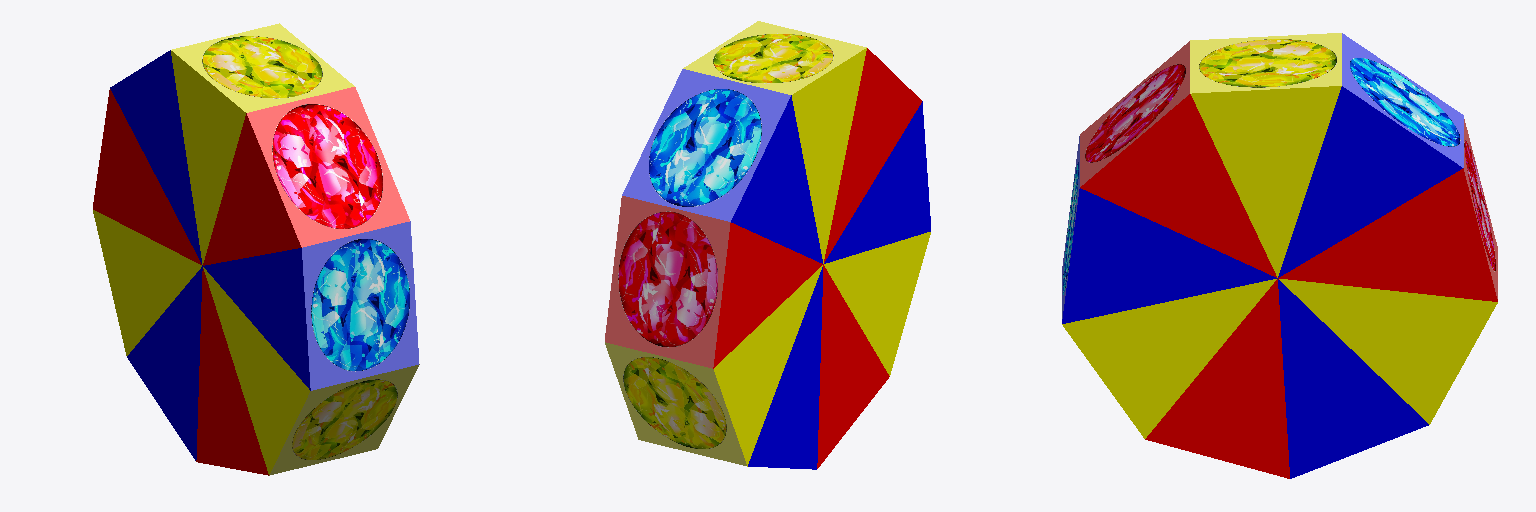
3 renders of one model, left to right at view 1: azimuth 30°, elevation 25°; view 2: azimuth 150°, elevation 25°; view 3: azimuth 270°, elevation 25°, orthographic.
Parts seen in each view (by area): view 1: model_slot_roll:pCylinder1; view 2: model_slot_roll:pCylinder1; view 3: model_slot_roll:pCylinder1.
Part boxes in pixels (left/top/right/bottom): model_slot_roll:pCylinder1: left=93, top=23, right=419, bottom=475; model_slot_roll:pCylinder1: left=605, top=21, right=930, bottom=469; model_slot_roll:pCylinder1: left=1062, top=33, right=1497, bottom=478.
Bounding box in the file's own units: 0.3778 × 1.3 × 1.31.
6 materials, 3 textured.